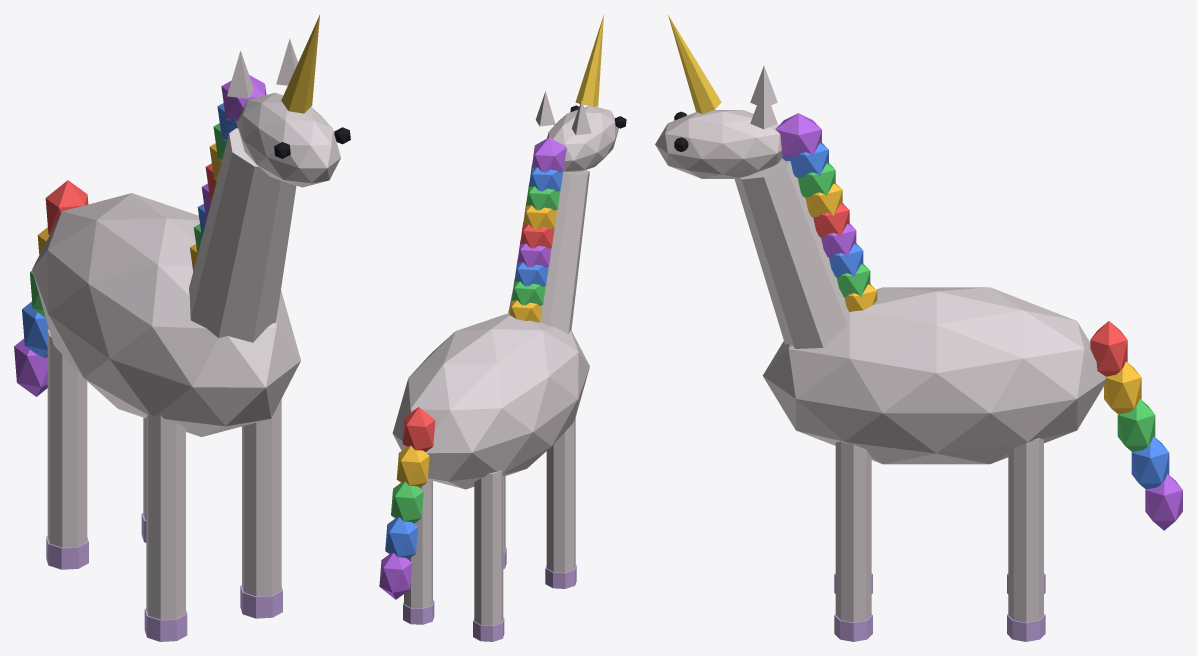
File: Unicorn.fbx
The picture shows the model from 3 angles, left to right: view 1: azimuth 30°, elevation 25°; view 2: azimuth 150°, elevation 25°; view 3: azimuth 270°, elevation 25°; orthographic projection. The views are drawn at different scales.
Parts seen in each view (by area): view 1: Coat, Hooves, ManePurple, Horn, ManeBlue, ManeRed, ManeGreen, ManeYellow; view 2: Coat, ManePurple, ManeBlue, ManeGreen, ManeYellow, ManeRed, Hooves, Horn; view 3: Coat, ManePurple, ManeBlue, ManeGreen, ManeYellow, ManeRed, Hooves, Horn.
Part boxes in pixels (x1,y1,x2,y2): Coat: (32, 38, 340, 619); Hooves: (46, 513, 282, 641); ManePurple: (14, 75, 266, 396); Horn: (281, 15, 319, 113); ManeBlue: (22, 103, 237, 357); ManeRed: (45, 163, 216, 234); ManeGreen: (30, 123, 226, 317); ManeYellow: (37, 143, 221, 270); Coat: (392, 91, 618, 625); ManePurple: (379, 137, 566, 599); ManeBlue: (385, 165, 563, 559); ManeGreen: (391, 183, 560, 523); ManeYellow: (396, 203, 557, 487); ManeRed: (402, 222, 554, 451); Hooves: (403, 547, 576, 641); Horn: (575, 15, 603, 106); Coat: (655, 66, 1105, 622); ManePurple: (775, 113, 1182, 530); ManeBlue: (782, 143, 1169, 489); ManeGreen: (797, 163, 1155, 451); ManeYellow: (805, 183, 1141, 414); ManeRed: (813, 203, 1127, 376); Hooves: (834, 573, 1045, 641); Horn: (668, 15, 721, 113).
Bounding box in the file's own units: 1.28 × 4.79 × 3.83.
